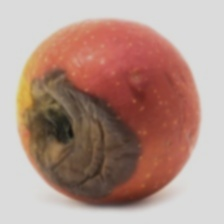apple: (37, 16, 223, 176)
